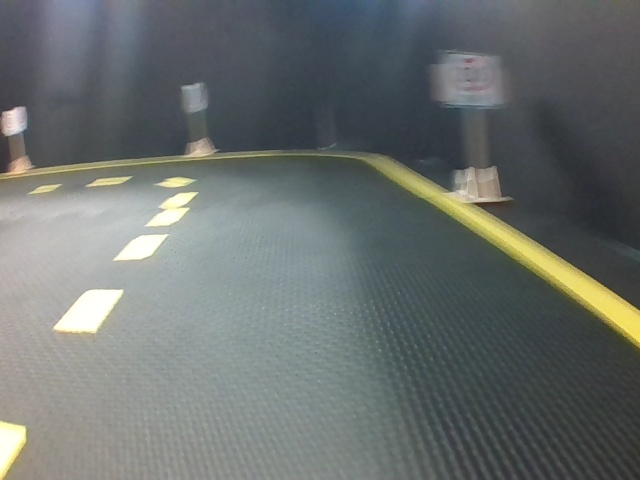30: (444, 50, 501, 107), (4, 110, 24, 133)
no30: (184, 84, 205, 112)
